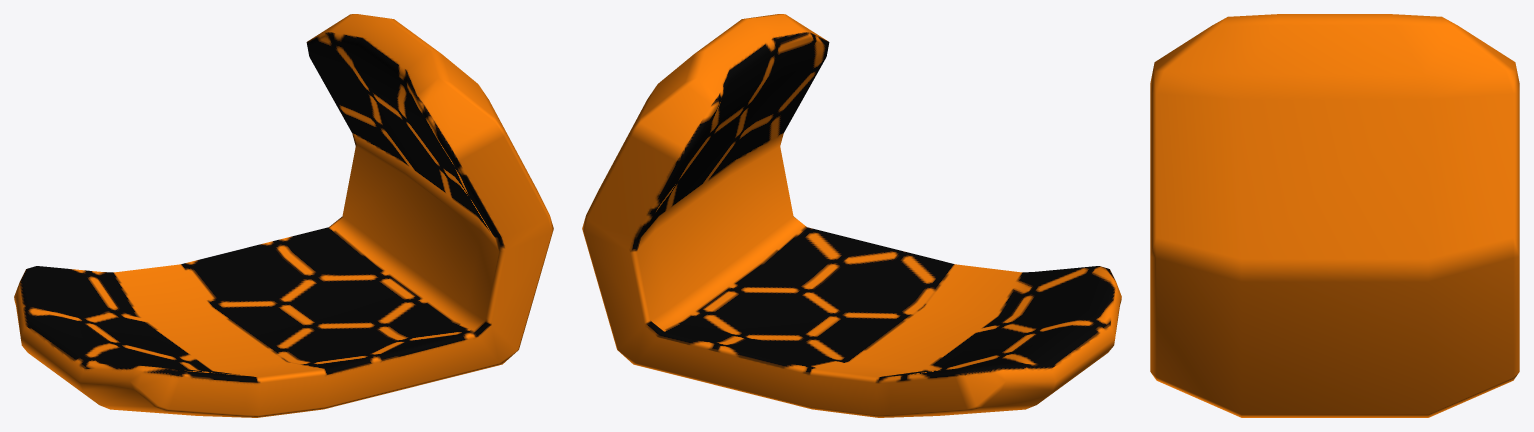
Rendered from SM_Bed_01.fbx.
3 renders of one model, left to right at view 1: azimuth 30°, elevation 25°; view 2: azimuth 150°, elevation 25°; view 3: azimuth 270°, elevation 25°, orthographic. The views are drawn at different scales.
Visible parts, largest first — view 1: SM_Bed_01; view 2: SM_Bed_01; view 3: SM_Bed_01.
Part boxes in pixels (x1=…): SM_Bed_01: x1=14, y1=14, x2=553, y2=417; SM_Bed_01: x1=582, y1=14, x2=1121, y2=417; SM_Bed_01: x1=1150, y1=14, x2=1519, y2=417.
Size of the model in its own units: 150 by 84.36 by 96.23.
Materials: 1 (1 with a texture image).
